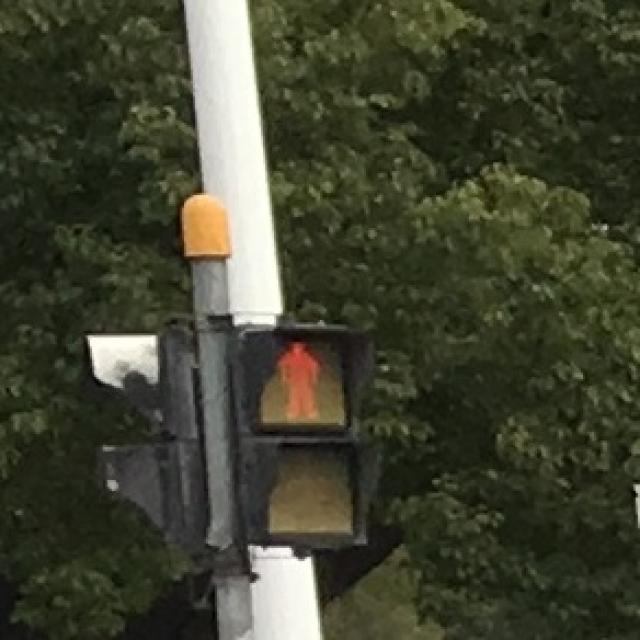red_light: (254, 336, 344, 428)
